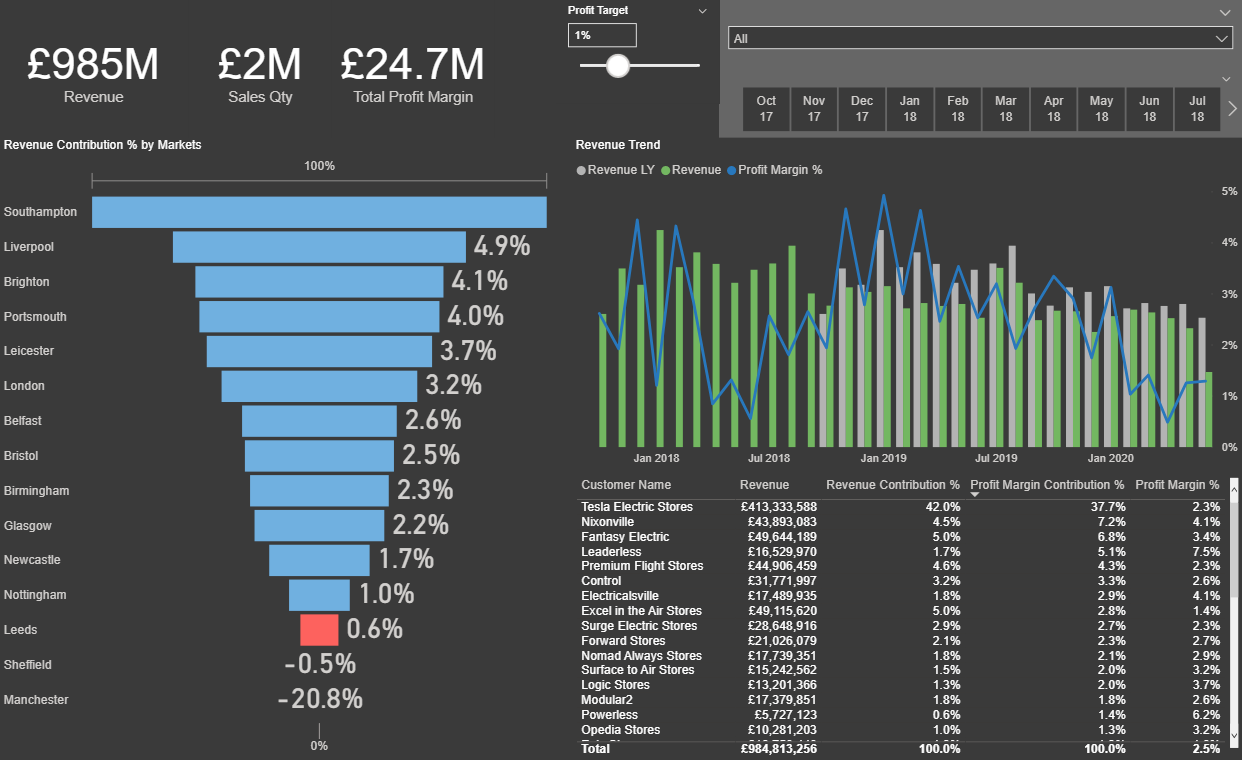

Layout of this report page (visuals, bound fields, positions):
{"tool":"powerbi","page":{"name":"Performance","canvas":[1340,820],"ordinal":2},"visuals":[{"type":"card","fields":{"Values":["base measures.Revenue"]},"box":[0,0,204.3,149.8],"z":0},{"type":"card","fields":{"Values":["base measures.Sales Qty"]},"box":[204.8,0,153.8,149.8],"z":1000},{"type":"slicer","fields":{"Values":["sales date.year"]},"box":[775.6,1.1,564.4,74.3],"z":2000},{"type":"tableEx","title":"Top 5 Customers","fields":{"Values":["sales customers.custmer_name","base measures.Revenue","base measures.Revenue Contribution %","base measures.Profit Margin Contribution %","base measures.Profit Margin %"]},"box":[616.2,510.4,724.1,309.6],"z":3000},{"type":"slicer","fields":{"Values":["sales date.cy_date"]},"box":[775.8,74.8,564.2,74.8],"z":4000},{"type":"lineClusteredColumnComboChart","title":"Revenue Trend","fields":{"Category":["sales date.cy_date"],"Y":["base measures.Revenue LY","base measures.Revenue"],"Y2":["base measures.Profit Margin %"]},"box":[616.2,149.8,724.1,360.6],"z":5000},{"type":"card","fields":{"Values":["base measures.Total Profit Margin"]},"box":[358.6,0,174.8,149.8],"z":6000},{"type":"funnel","title":"Revenue Contribution % by Markets","fields":{"Category":["sales markets.region","sales markets.markets_name","sales customers.custmer_name"],"Y":["base measures.Profit Margin %"]},"box":[0,149.8,600,670.2],"z":7000},{"type":"slicer","fields":{"Values":["Profit Target.Profit Target"]},"box":[600,0,175.6,113.1],"z":8000}]}

Visuals, with their boxes in screenshot pixels (x1, y1, x2, y2), scaled from the page's 1340x820 canvas onto the 1242x760 screenshot:
card - base measures.Revenue: BBox(0, 0, 189, 139)
card - base measures.Sales Qty: BBox(190, 0, 332, 139)
slicer - sales date.year: BBox(719, 1, 1241, 70)
"Top 5 Customers" tableEx: BBox(571, 473, 1241, 759)
slicer - sales date.cy_date: BBox(719, 69, 1241, 139)
"Revenue Trend" lineClusteredColumnComboChart: BBox(571, 139, 1241, 473)
card - base measures.Total Profit Margin: BBox(332, 0, 494, 139)
"Revenue Contribution % by Markets" funnel: BBox(0, 139, 556, 759)
slicer - Profit Target.Profit Target: BBox(556, 0, 719, 105)
